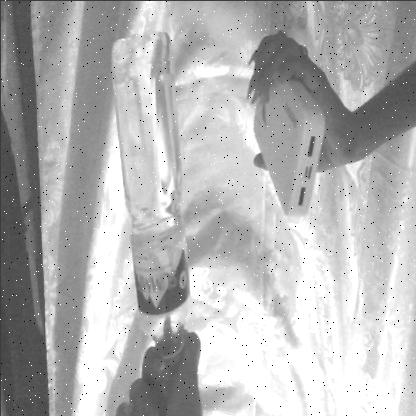Plastic Bottle: (99, 25, 205, 378)
